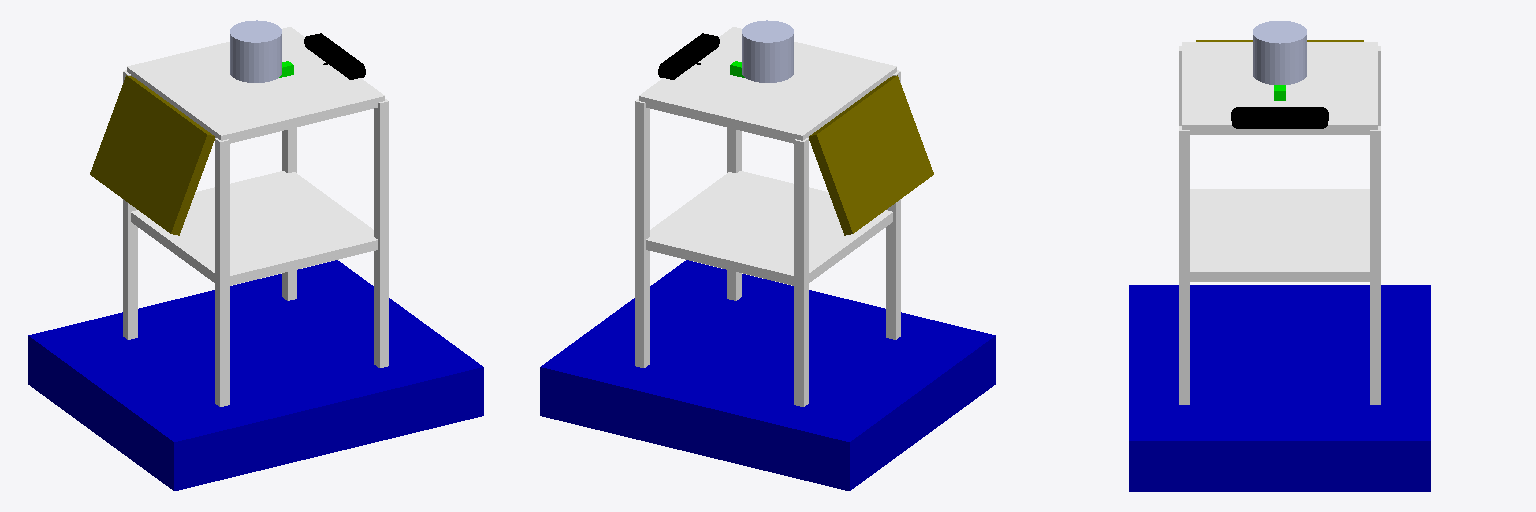
robot.urdf — mickx4:
<?xml version="1.0"?>
<robot name="mickx4">



  <link name="base_link">
     <visual>
      <geometry>
        <box size="0.01 .01 .01"/>
      </geometry>
      <material name="gree">
        <color rgba="0 0 .8 1"/>
      </material>
    </visual>
    <origin rpy="0 0 0" xyz="1 0 0.125"/>
 </link>

  <link name="base_footprint"/>

 <joint name="base_joint" type="fixed">
    <parent link="base_link"/>
    <child link="base_footprint"/>
    <origin xyz="0.0 0.0 -0.01"/>
  </joint>


  <link name="camera">
     <visual>
      <geometry>
	 <!-- box size=".03 .15 .03"/-->
         <mesh filename="package://mick_description/urdf/mesh/ZED.stl" scale="0.001 0.001 0.001"/>
      </geometry>
      <material name="">
        <color rgba="0 0 0 1" />
      </material>
    </visual>
  </link>

  <joint name="camera_joint" type="fixed">
    <parent link="base_link"/>
    <child link="camera"/>
    <origin xyz="0.17 0.0 0.75"/>
  </joint>

  <link name="imu_link">
     <visual>
      <geometry>
	 <box size=".05 .02 .02"/>
      </geometry>
      <material name="">
        <color rgba="0 1 0 1" />
      </material>
    </visual>
  </link>

  <joint name="imu_link_joint" type="fixed">
    <parent link="base_link"/>
    <child link="imu_link"/>
    <origin xyz="0.05 0.0 0.75"/>
  </joint>

  <link name="rslidar">
     <visual>
      <geometry>
          <!--mesh filename="package://mick_description/urdf/mesh/RS-LiDAR-16.stl" scale="0.001 0.001 0.001">
          </mesh-->
         <cylinder length=".0826" radius="0.0487"/>
      </geometry>
      <material name="">
        <color rgba="0.792156862745098 0.819607843137255 0.933333333333333 1" />
      </material>
    </visual>
  </link>

  <joint name="rslidar_joint" type="fixed">
    <parent link="base_link"/>
    <child link="rslidar"/>
    <origin xyz="0.0 0.0 0.80" rpy="0 0 0"/>
  </joint>

  <link name="body">
     <visual>
      <geometry>
        <box size="0.66 .54 .1"/>
      </geometry>
      <material name="gree">
        <color rgba="0 0 0.8 1"/>
      </material>
    </visual>
 </link>

  <joint name="body" type="fixed">
    <axis xyz="0 0 1"/>
    <parent link="base_link"/>
    <child link="body"/>
    <origin rpy="0 0 0" xyz="0.0 0.0 0.14"/>
    <limit effort="100" velocity="100"/>
    <joint_properties damping="0.0" friction="0.0"/>
  </joint>

 <link name="left_front_wheel">
    <visual>
      <geometry>
	<!--cylinder length=".06" radius="0.125"/-->
        <mesh filename="package://mick_description/urdf/mesh/wheel.stl" scale="0.001 0.001 0.001"/>
      </geometry>
      <material name="red">
        <color rgba="1 0 0 1"/>
      </material>
    </visual>
  </link>
  <joint name="left_front_wheel_joint" type="fixed">
    <axis xyz="0 0 1"/>
    <parent link="body"/>
    <child link="left_front_wheel"/>
    <origin rpy="1.57075 0 0" xyz="0.1 0.285 -0.14"/>
    <limit effort="100" velocity="100"/>
    <joint_properties damping="0.0" friction="0.0"/>
  </joint>

 <link name="right_front_wheel">
    <visual>
      <geometry>
        <mesh filename="package://mick_description/urdf/mesh/wheel.stl" scale="0.001 0.001 0.001"/>
      </geometry>
      <material name="red">
        <color rgba="1 0 0 1"/>
      </material>
    </visual>
  </link>

  <joint name="right_front_wheel_joint" type="fixed">
    <axis xyz="0 0 1"/>
    <parent link="body"/>
    <child link="right_front_wheel"/>
    <origin rpy="1.57075 0 0" xyz="0.1 -0.37 -0.14"/>
    <limit effort="100" velocity="100"/>
    <joint_properties damping="0.0" friction="0.0"/>
  </joint>

  <link name="right_back_wheel">
    <visual>
      <geometry>
        <mesh filename="package://mick_description/urdf/mesh/wheel.stl" scale="0.001 0.001 0.001"/>
      </geometry>
      <material name="red">
        <color rgba="1 0 0 1"/>
      </material>
    </visual>
  </link>

  <joint name="right_back_wheel_joint" type="fixed">
    <axis xyz="0 0 1"/>
    <parent link="body"/>
    <child link="right_back_wheel"/>
    <origin rpy="1.57075 0 0" xyz="-0.35 -0.37 -0.14"/>
    <limit effort="100" velocity="100"/>
    <joint_properties damping="0.0" friction="0.0"/>
 </joint>

  <link name="left_back_wheel">
    <visual>
      <geometry>
        <mesh filename="package://mick_description/urdf/mesh/wheel.stl" scale="0.001 0.001 0.001"/>
      </geometry>
      <material name="red">
        <color rgba="1 0 0 1"/>
      </material>
    </visual>
  </link>

  <joint name="left_back_wheel_joint" type="fixed">
    <axis xyz="0 0 1"/>
    <parent link="body"/>
    <child link="left_back_wheel"/>
    <origin rpy="1.57075 0 0" xyz="-0.35 0.285 -0.14"/>
    <limit effort="100" velocity="100"/>
    <joint_properties damping="0.0" friction="0.0"/>
  </joint>

 
  <link name="part1">
    <visual>
      <geometry>
        <box size=".02 .02 .54"/>
      </geometry>
      <material name="white">
          <color rgba="1 1 1 1"/>
      </material>
    </visual>
  </link>

  <joint name="part1_joint" type="fixed">
    <parent link="body"/>
    <child link="part1"/>
    <origin xyz="0.17 0.17 0.32"/>
  </joint>

  <link name="part2">
    <visual>
      <geometry>
        <box size=".02 .02 .54"/>
      </geometry>
      <material name="white">
          <color rgba="1 1 1 1"/>
      </material>
    </visual>
  </link>

  <joint name="part2_joint" type="fixed">
    <parent link="body"/>
    <child link="part2"/>
    <origin xyz="0.17 -0.17 0.32"/>
  </joint>

  <link name="part3">
    <visual>
      <geometry>
        <box size=".02 .02 .54"/>
      </geometry>
      <material name="white">
          <color rgba="1 1 1 1"/>
      </material>
    </visual>
  </link>

  <joint name="part3_joint" type="fixed">
    <parent link="body"/>
    <child link="part3"/>
    <origin xyz="-0.17 -0.17 0.32"/>
  </joint>

  <link name="part4">
    <visual>
      <geometry>
        <box size=".02 .02 .54"/>
      </geometry>
      <material name="white">
          <color rgba="1 1 1 1"/>
      </material>
    </visual>
  </link>

  <joint name="part4_joint" type="fixed">
    <parent link="body"/>
    <child link="part4"/>
    <origin xyz="-0.17 0.17 0.32"/>
  </joint>

 
  <link name="part5">
    <visual>
      <geometry>
        <box size=".35 .35 .02"/>
      </geometry>
      <material name="white">
          <color rgba="1 1 1 1"/>
      </material>
    </visual>
  </link>

  <joint name="part5_joint" type="fixed">
    <parent link="body"/>
    <child link="part5"/>
    <origin xyz="0 0 0.59"/>
  </joint>

  <link name="part6">
    <visual>
      <geometry>
        <box size=".35 .35 .02"/>
      </geometry>
      <material name="white">
          <color rgba="1 1 1 1"/>
      </material>
    </visual>
  </link>

  <joint name="part6_joint" type="fixed">
    <parent link="body"/>
    <child link="part6"/>
    <origin xyz="0 0 0.30"/>
  </joint>

  <!-- LED screen -->
  <link name="part7">
    <visual>
      <geometry>
        <box size=".02 .30 .20"/>
      </geometry>
      <material name="">
          <color rgba="0.5 0.45 0 1"/>
      </material>
    </visual>
  </link>
  
  <joint name="part7_joint" type="fixed">
    <parent link="body"/>
    <child link="part7"/>
    <origin rpy= "0 0.4 0" xyz="-0.22 0 0.50"/>
  </joint>
</robot>

--- Facts derived from the render (not from the file) ---
Views: 3 orthographic renders of the robot side by side, from view 1: azimuth 30°, elevation 25°; view 2: azimuth 150°, elevation 25°; view 3: azimuth 270°, elevation 25°.
Robot: mickx4 — 17 links, 16 joints (16 fixed); root link base_link; default pose: every joint at zero.
Links seen in each view (by area): view 1: body, part6, part5, part7, part3, part2, rslidar, part4, camera, part1; view 2: body, part6, part5, part7, part4, part1, rslidar, part3, camera, part2; view 3: body, part6, part5, rslidar, part1, part2, camera.
Boxes of the visible links, bbox=[...] form: body: bbox=[28, 260, 483, 490]; part6: bbox=[131, 171, 377, 285]; part5: bbox=[127, 27, 384, 143]; part7: bbox=[90, 75, 214, 235]; part3: bbox=[215, 138, 229, 406]; part2: bbox=[374, 99, 388, 367]; rslidar: bbox=[230, 20, 281, 82]; part4: bbox=[123, 70, 137, 339]; camera: bbox=[304, 33, 365, 79]; part1: bbox=[282, 127, 296, 300]; body: bbox=[540, 260, 995, 490]; part6: bbox=[646, 171, 892, 285]; part5: bbox=[639, 27, 896, 143]; part7: bbox=[809, 75, 933, 235]; part4: bbox=[794, 138, 808, 406]; part1: bbox=[635, 99, 649, 367]; rslidar: bbox=[742, 20, 793, 82]; part3: bbox=[886, 70, 900, 339]; camera: bbox=[658, 33, 719, 79]; part2: bbox=[727, 127, 741, 300]; body: bbox=[1129, 285, 1430, 491]; part6: bbox=[1190, 189, 1369, 281]; part5: bbox=[1182, 42, 1377, 134]; rslidar: bbox=[1253, 21, 1306, 84]; part1: bbox=[1370, 126, 1380, 404]; part2: bbox=[1179, 126, 1189, 404]; camera: bbox=[1231, 107, 1328, 128].
Size in the robot's own frame: 0.66 by 0.54 by 0.8463 metres.
1 mesh visuals loaded from 2 distinct referenced files (1 binary STL); not drawn: 4 (reference not matched to a file when rendering).
